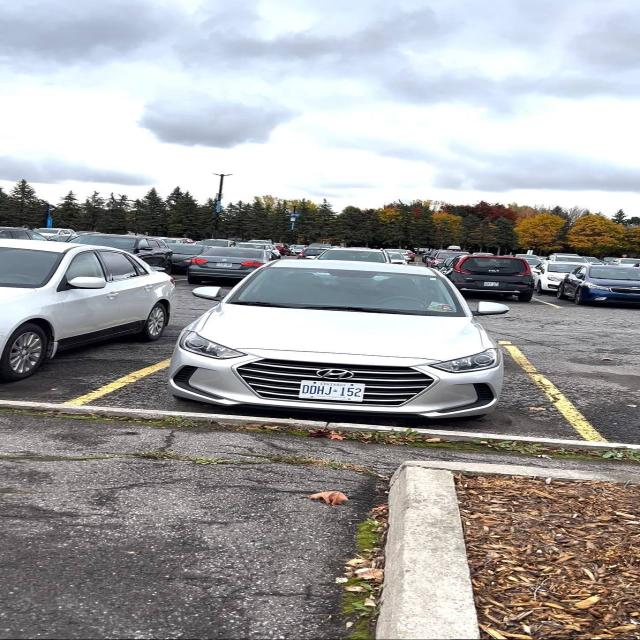plaque: (299, 380, 365, 401), (216, 263, 233, 267), (484, 282, 499, 286)
